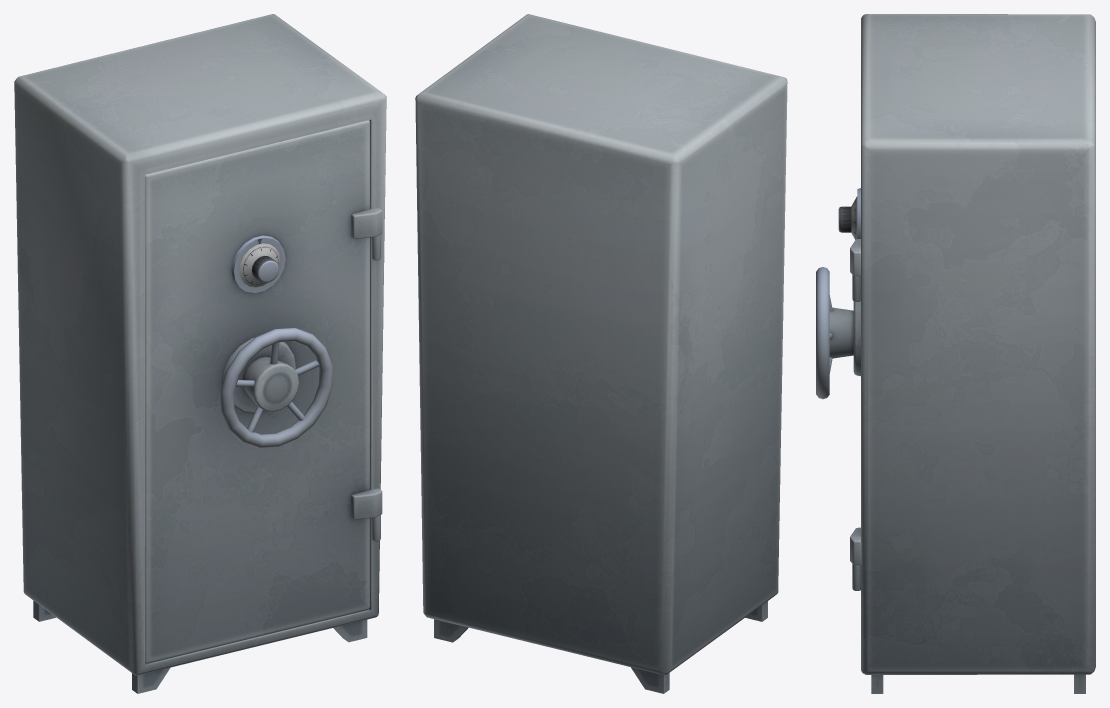
Rendered from BankSafe01.FBX.
3 views of the same model, side by side, from view 1: azimuth 30°, elevation 25°; view 2: azimuth 150°, elevation 25°; view 3: azimuth 270°, elevation 25° (orthographic). The views are drawn at different scales.
Visible parts, largest first — view 1: Door, Base; view 2: Base; view 3: Base, Door.
Part boxes in pixels (box(x1,y1,x2,y2)): Door: box(145, 120, 382, 663); Base: box(14, 14, 386, 693); Base: box(415, 14, 787, 693); Base: box(852, 14, 1095, 693); Door: box(816, 188, 861, 565).
Size of what is drawn, in the model's own units: 1.01 by 1.98 by 0.8953.
